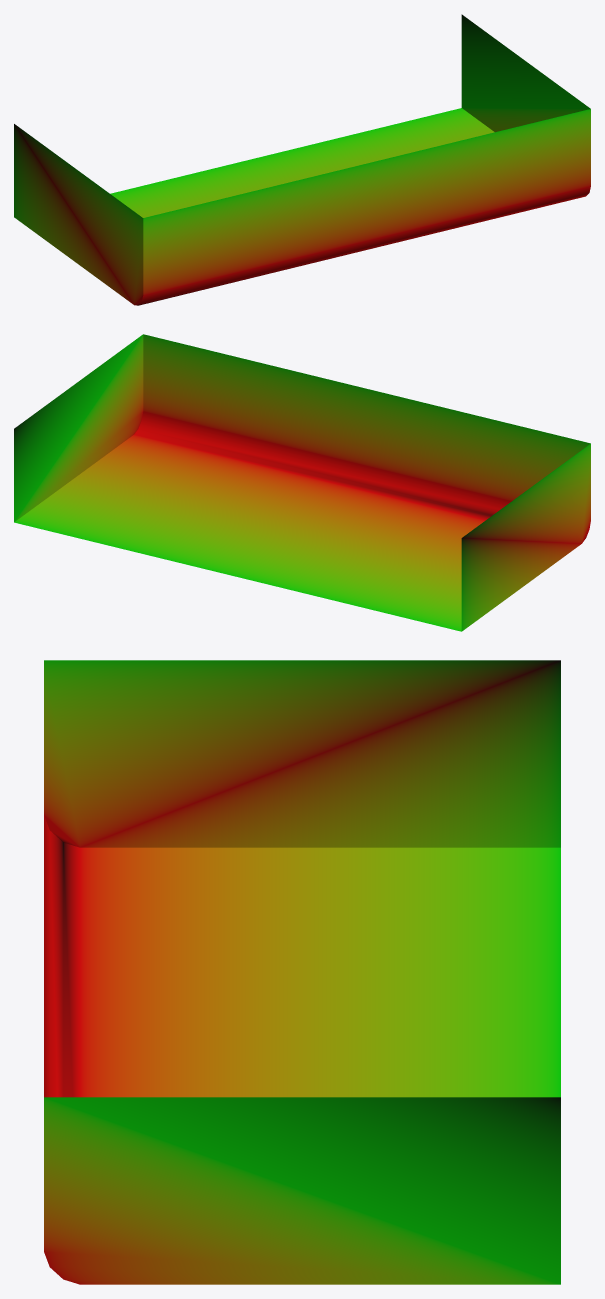
The model's file is CeilingSupportV1.fbx.
3 renders of one model, top to bottom at view 1: azimuth 30°, elevation 25°; view 2: azimuth 150°, elevation 25°; view 3: azimuth 270°, elevation 25°, orthographic. The views are drawn at different scales.
Visible parts, largest first — view 1: CeilingSupportV1; view 2: CeilingSupportV1; view 3: CeilingSupportV1.
Boxes of the visible parts, <box> form: CeilingSupportV1: <box>14,14,590,305</box>; CeilingSupportV1: <box>14,334,590,631</box>; CeilingSupportV1: <box>44,660,560,1284</box>.
Bounding box in the file's own units: 200 × 40 × 100.
